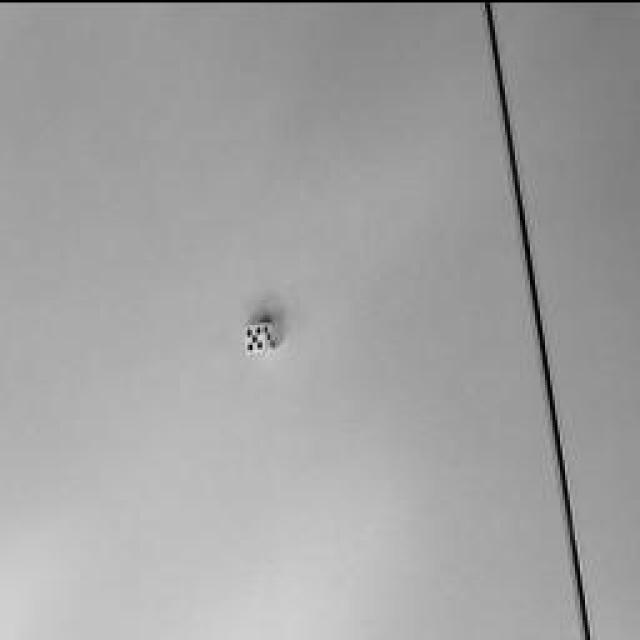dice_5: (245, 320, 265, 350)
